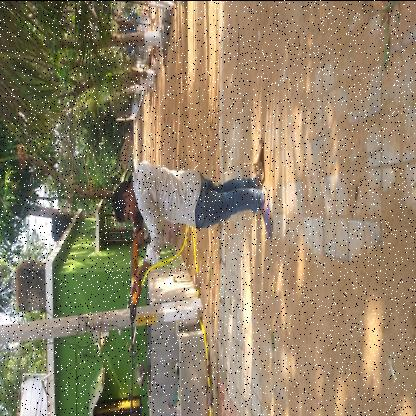rifle: (127, 208, 145, 414)
